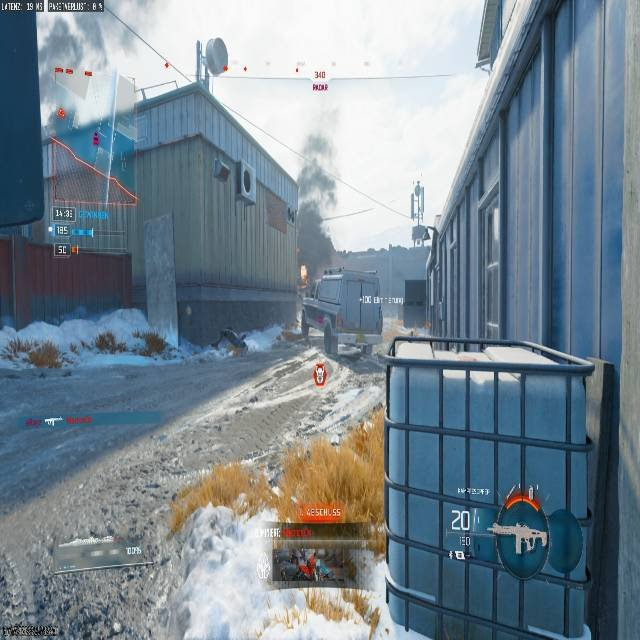player: (313, 361, 327, 385)
